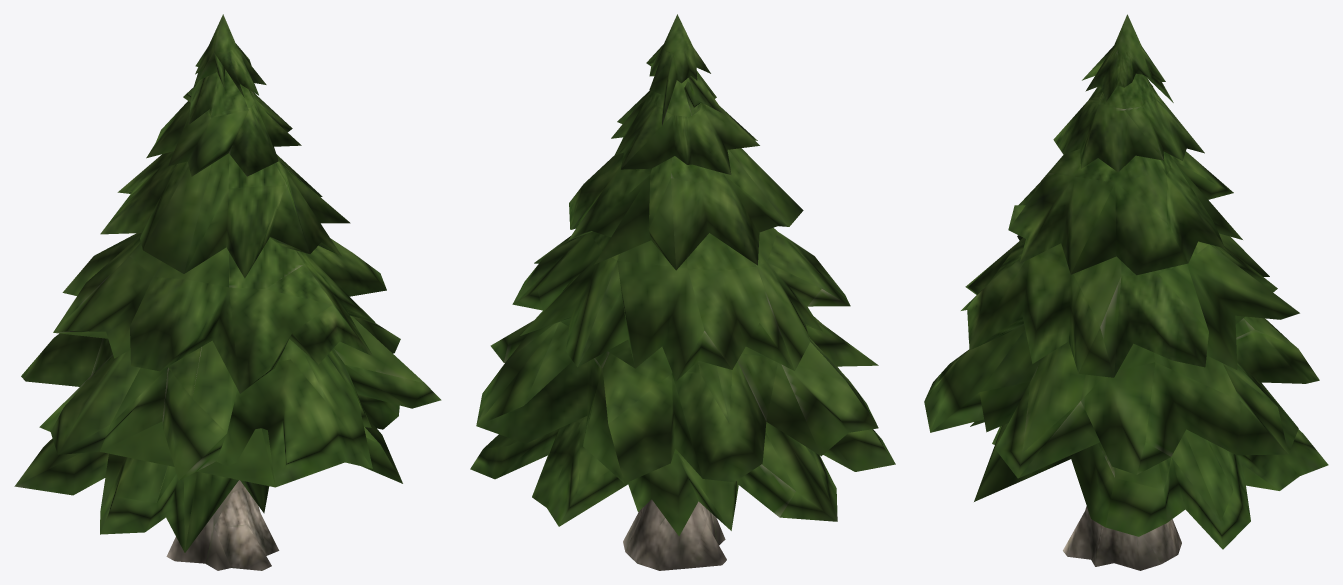
The model's file is tree-fir-01.glb.
3 views of the same model, side by side, from view 1: azimuth 30°, elevation 25°; view 2: azimuth 150°, elevation 25°; view 3: azimuth 270°, elevation 25° (orthographic).
Size of the model in its own units: 0.6836 by 0.9507 by 0.6533.
Materials: 1 (1 with a texture image).
